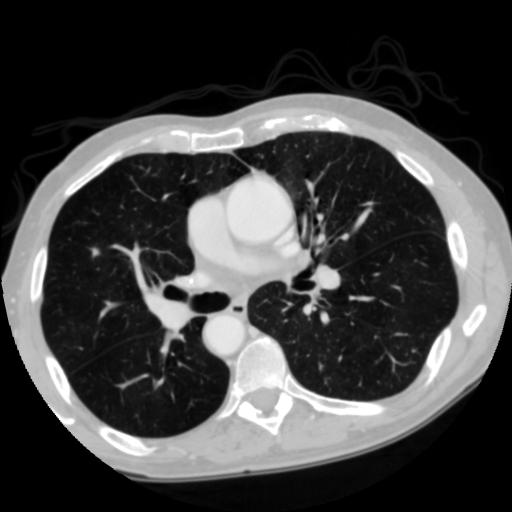nodule: (88, 242, 107, 261)
